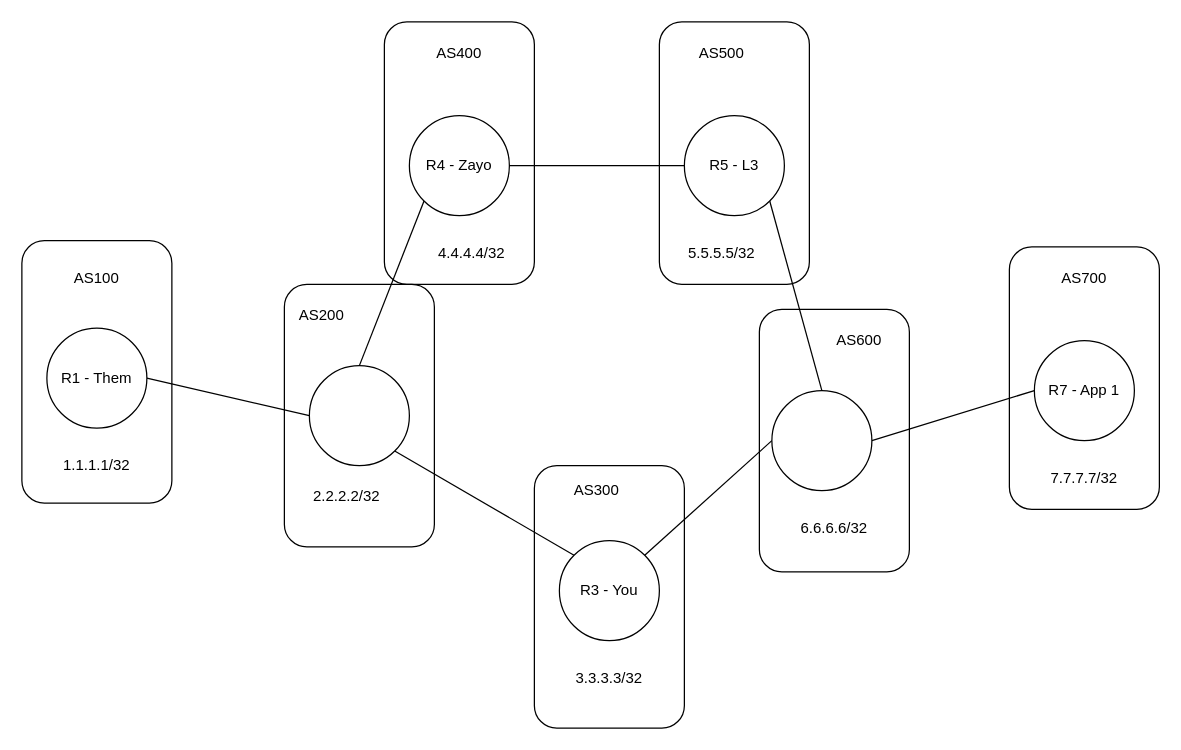
Some shapes in this 1181 by 750 pixel diagram are drawn without their labels. Each missing label, with the box of its shape:
R2 - Comcast: (308, 364, 409, 466)
R6 - AT&T: (771, 389, 872, 491)
